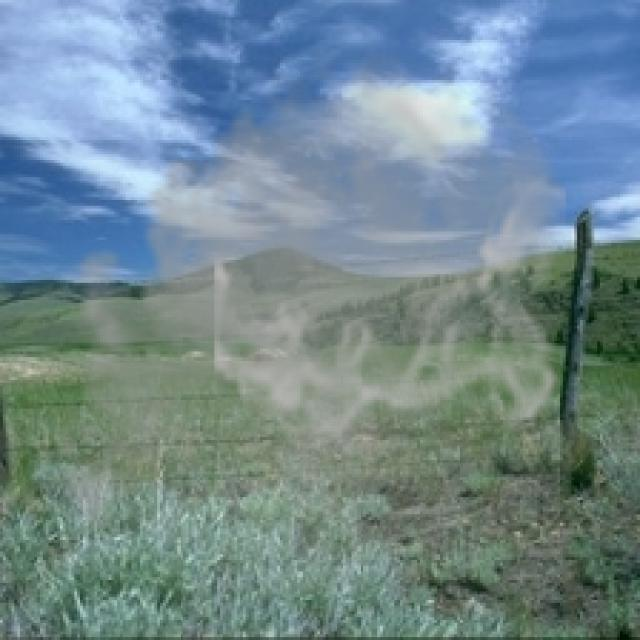smoke: (40, 32, 571, 594)
